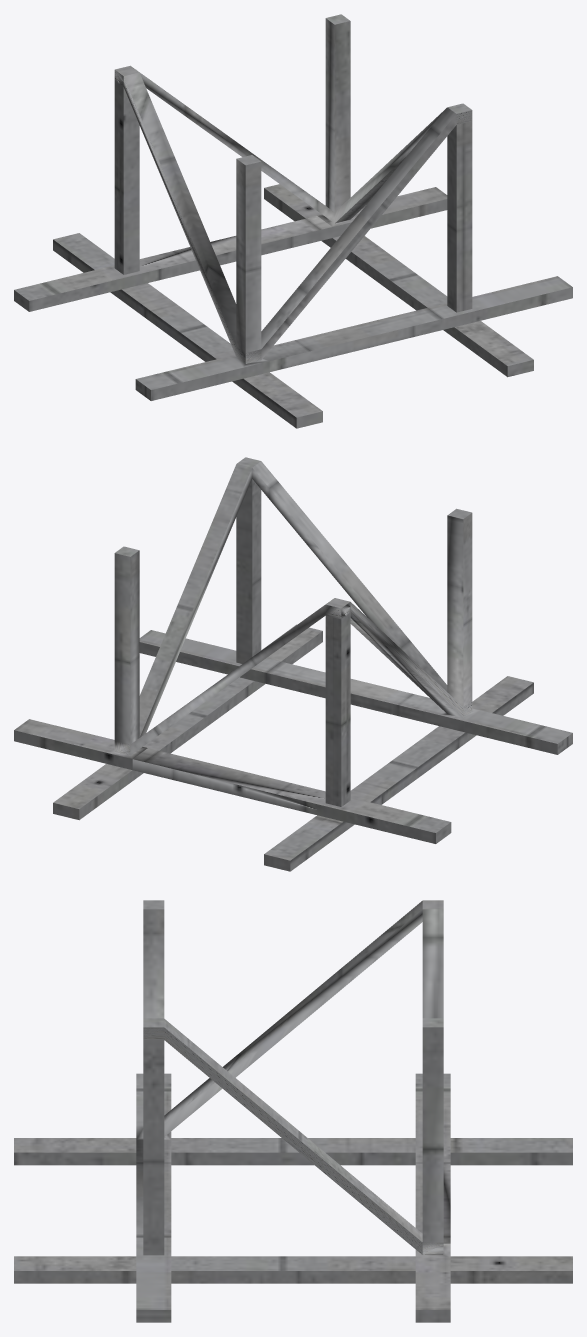
File: Scaffolding3.fbx
3 views of the same model, one above another, from view 1: azimuth 30°, elevation 25°; view 2: azimuth 150°, elevation 25°; view 3: azimuth 270°, elevation 25° (orthographic). The views are drawn at different scales.
Visible parts, largest first — view 1: Cube.001; view 2: Cube.001; view 3: Cube.001.
Boxes of the visible parts, x1=… form: Cube.001: x1=14, y1=14, x2=572, y2=428; Cube.001: x1=14, y1=457, x2=572, y2=871; Cube.001: x1=14, y1=900, x2=572, y2=1322.
Bounding box in the file's own units: 200 × 100 × 200.
